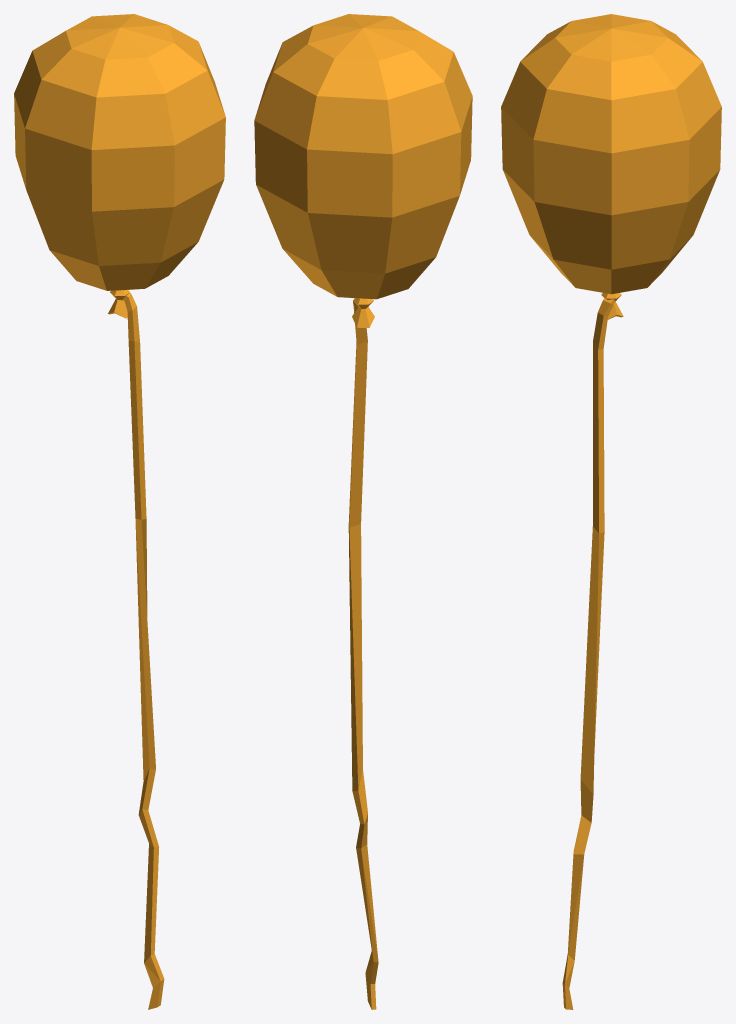
File: SM_Balloon_Small_Stars_Ribbon.fbx
3 renders of one model, left to right at view 1: azimuth 30°, elevation 25°; view 2: azimuth 150°, elevation 25°; view 3: azimuth 270°, elevation 25°, orthographic. The views are drawn at different scales.
Visible parts, largest first — view 1: balloon-small-stars-ribbon; view 2: balloon-small-stars-ribbon; view 3: balloon-small-stars-ribbon.
Boxes of the visible parts, bbox=[...] form: balloon-small-stars-ribbon: bbox=[14, 14, 225, 1009]; balloon-small-stars-ribbon: bbox=[254, 14, 472, 1009]; balloon-small-stars-ribbon: bbox=[501, 14, 721, 1009].
Size of the model in its own units: 0.2621 by 1.28 by 0.2621.
